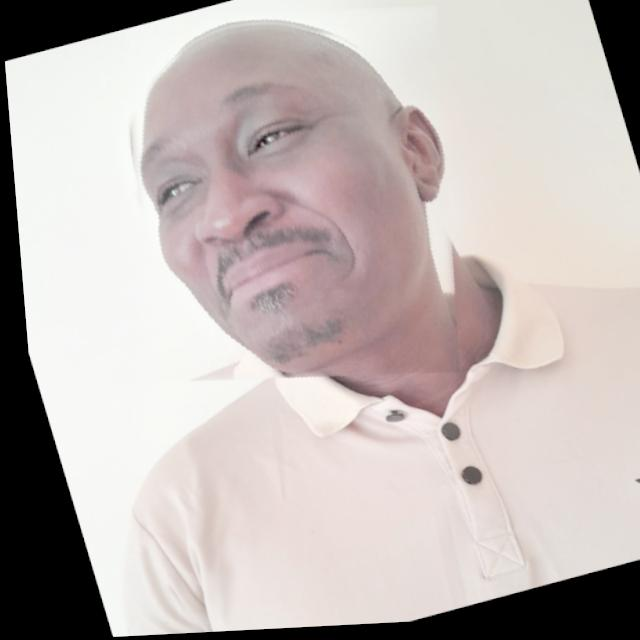sad: (62, 0, 514, 435)
